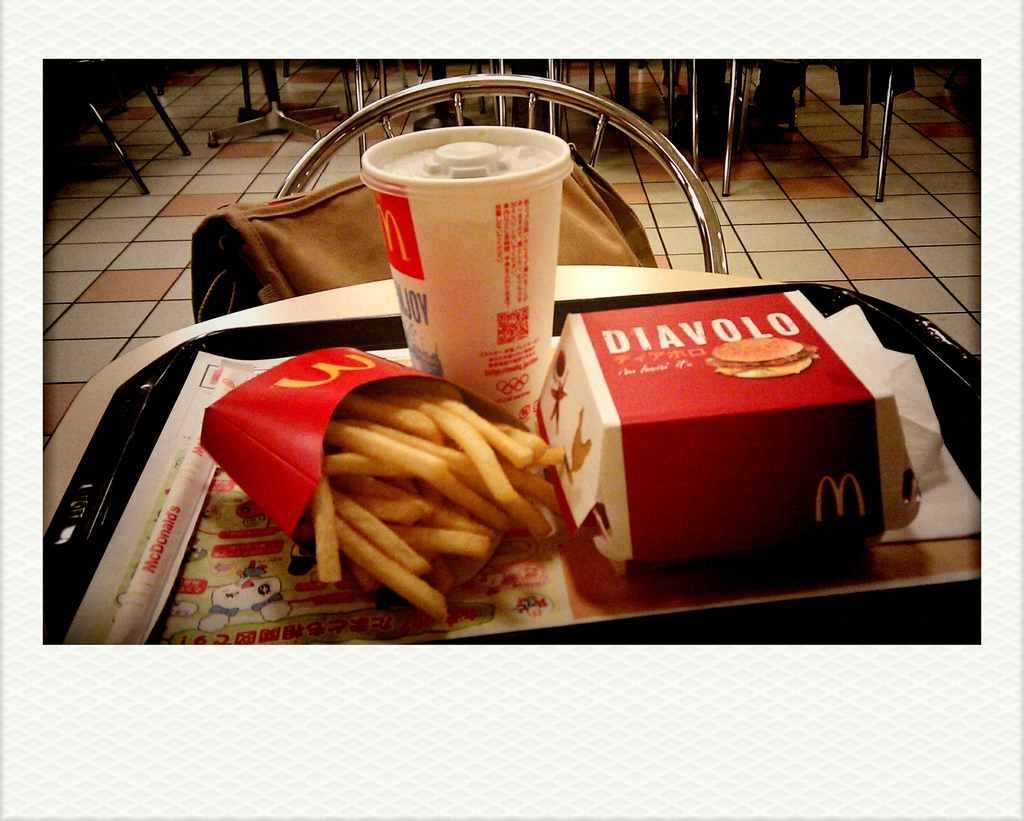French fries: (302, 370, 570, 635)
